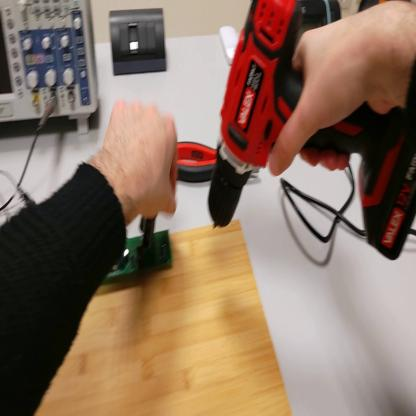electric screwdriver: (208, 2, 416, 264)
hand: (268, 6, 401, 177), (99, 98, 179, 227)
oscilloscope: (2, 4, 99, 136)
pliers: (175, 140, 262, 184)
working area: (40, 221, 289, 416)
